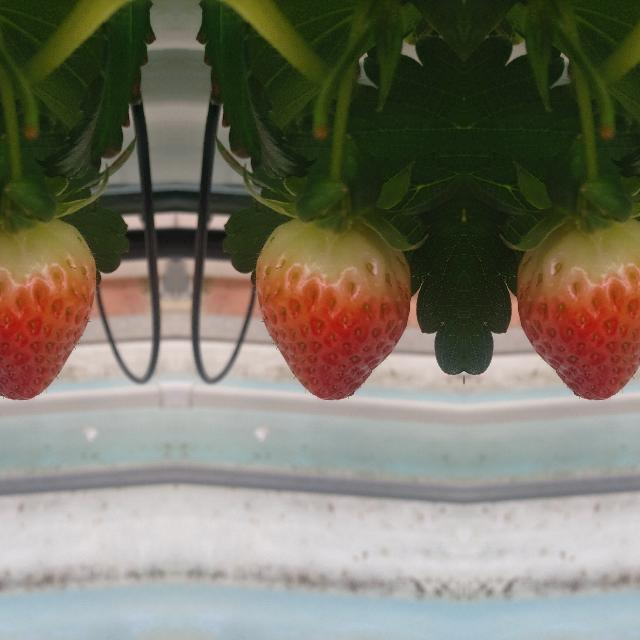Health_100: (255, 218, 409, 400), (517, 218, 640, 399), (0, 218, 95, 399)
